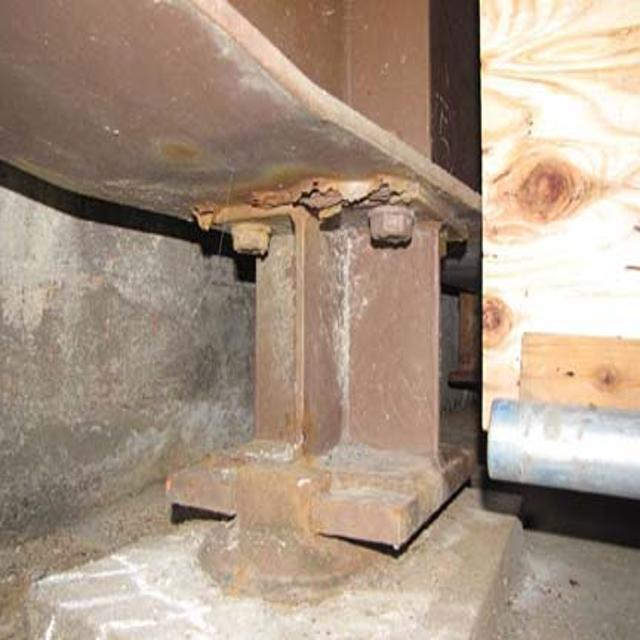corrosion: (205, 114, 436, 512), (483, 140, 617, 253)
